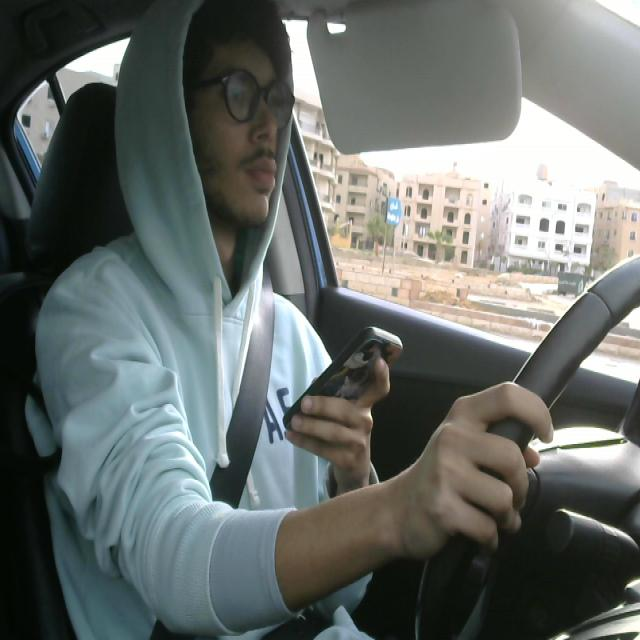mobile use: (280, 323, 408, 430)
